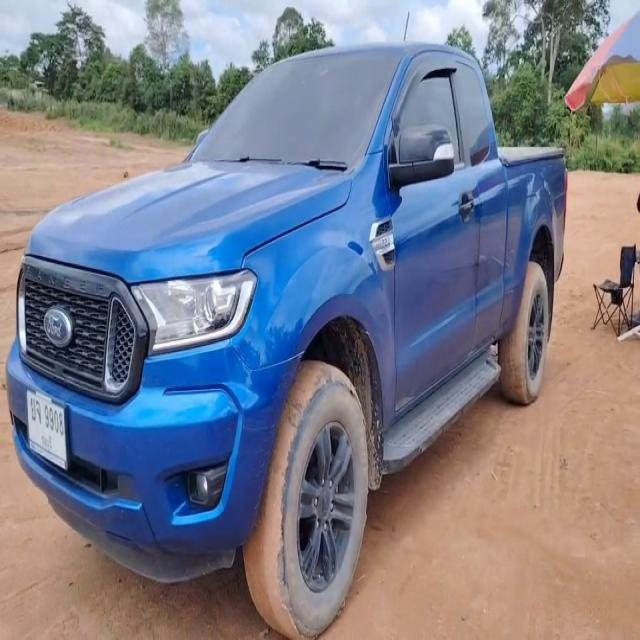Digit: (44, 404, 65, 438)
Licenseplate: (26, 388, 69, 471)
Provincename: (41, 431, 53, 453)
Thaichar: (30, 397, 41, 425)
